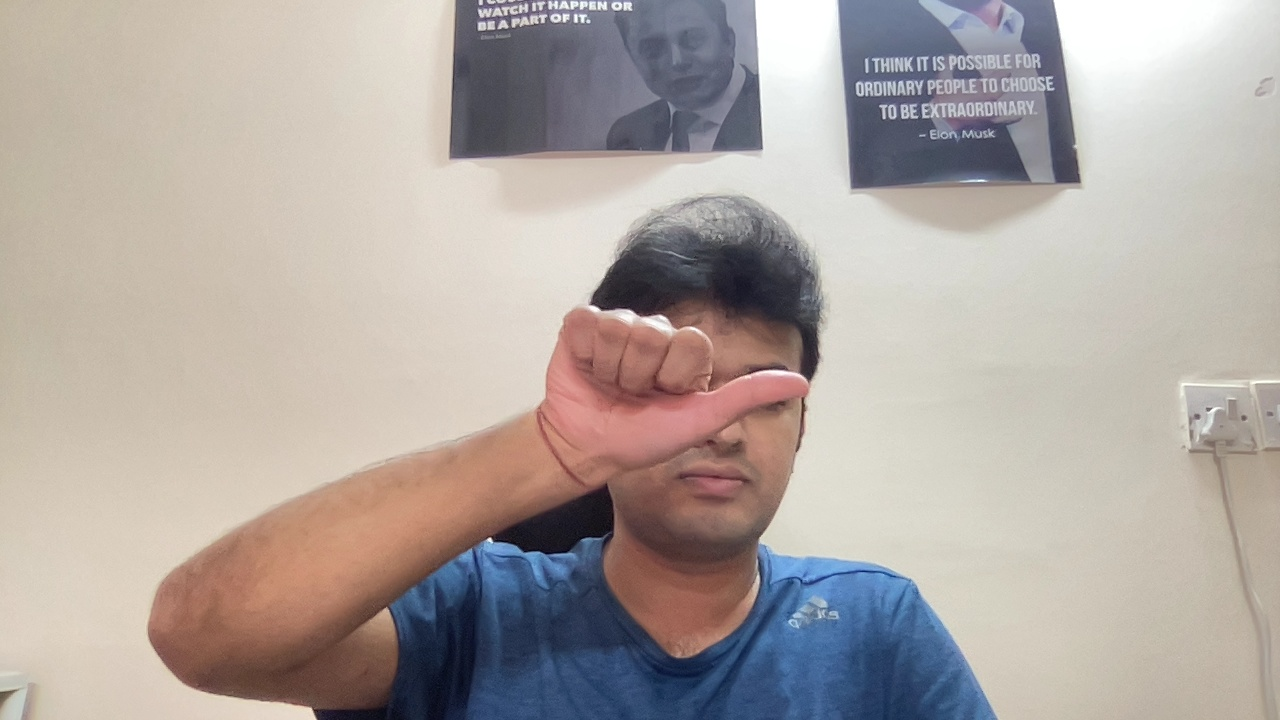left: (534, 299, 815, 485)
